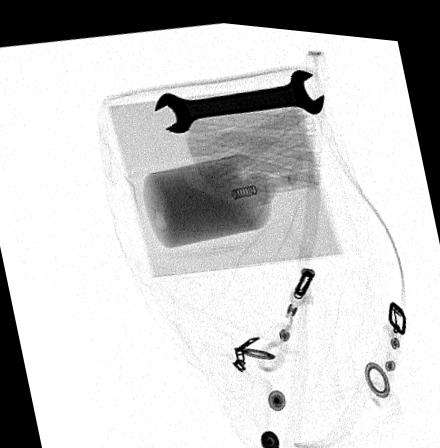Wrench: (151, 59, 327, 129)
